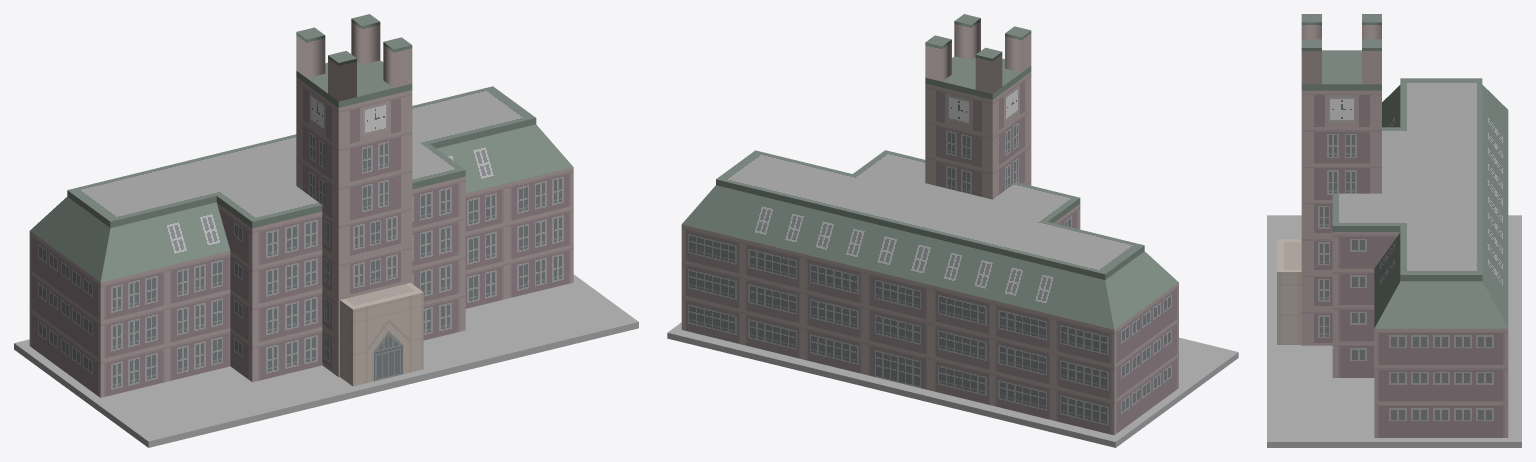
File: 02c2_College.glb
3 renders of one model, left to right at view 1: azimuth 30°, elevation 25°; view 2: azimuth 150°, elevation 25°; view 3: azimuth 270°, elevation 25°, orthographic. The views are drawn at different scales.
Visible parts, largest first — view 1: part_0; view 2: part_0; view 3: part_0.
Part boxes in pixels (bbox=[...]): part_0: bbox=[14, 14, 638, 447]; part_0: bbox=[667, 14, 1238, 447]; part_0: bbox=[1267, 14, 1521, 447].
Size of the model in its own units: 40 by 25 by 19.
Materials: 1 (1 with a texture image).
